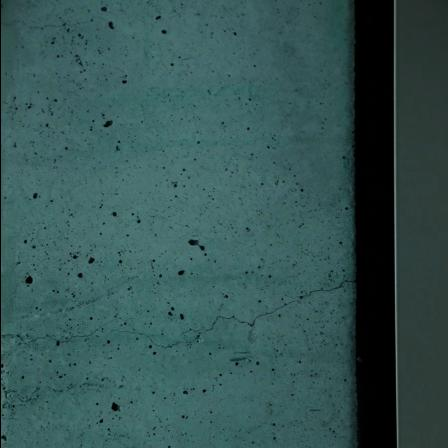crack: (166, 275, 360, 349), (0, 309, 122, 357), (100, 323, 193, 356)
